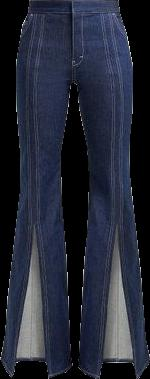Hemline: (77, 219, 149, 378), (0, 221, 71, 378)
Pantleg: (73, 0, 149, 378), (1, 0, 73, 376)
Waistline: (26, 7, 119, 16), (28, 0, 118, 4)
